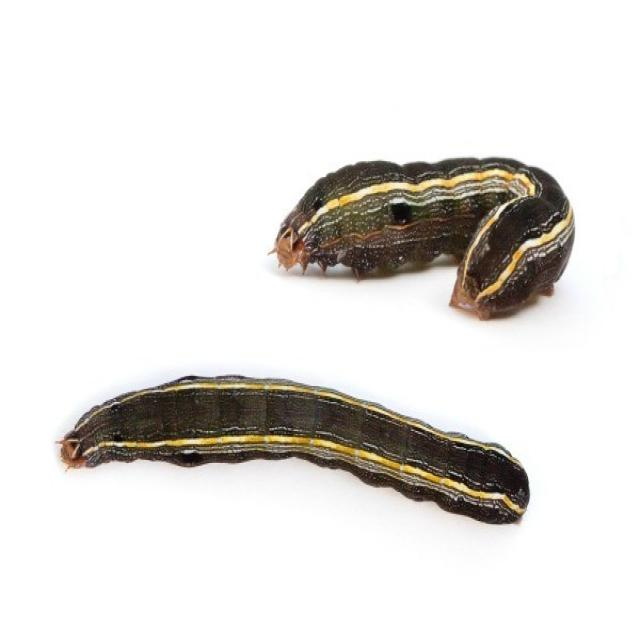pest-armyworm: (56, 368, 545, 540), (273, 146, 577, 329)
